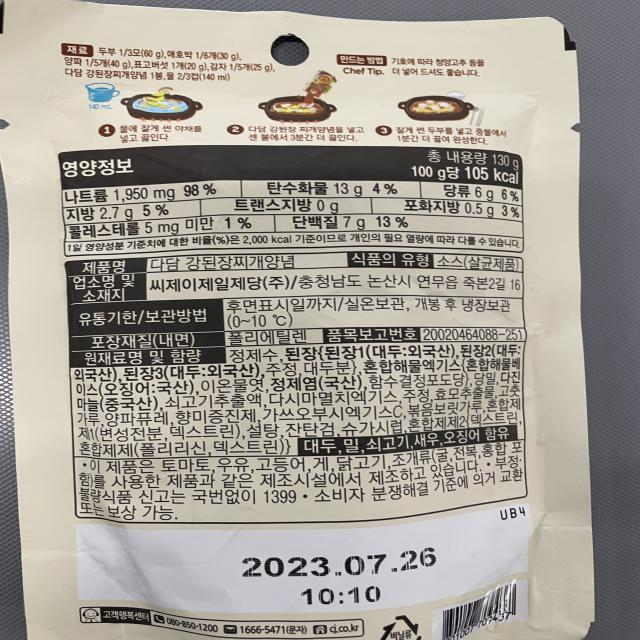object_name: (15, 5, 559, 640)
